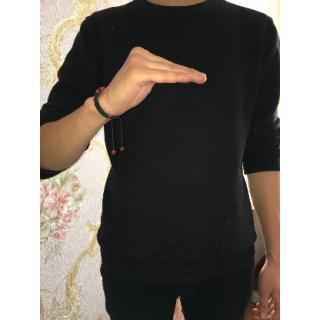HAA: (98, 42, 210, 121)
